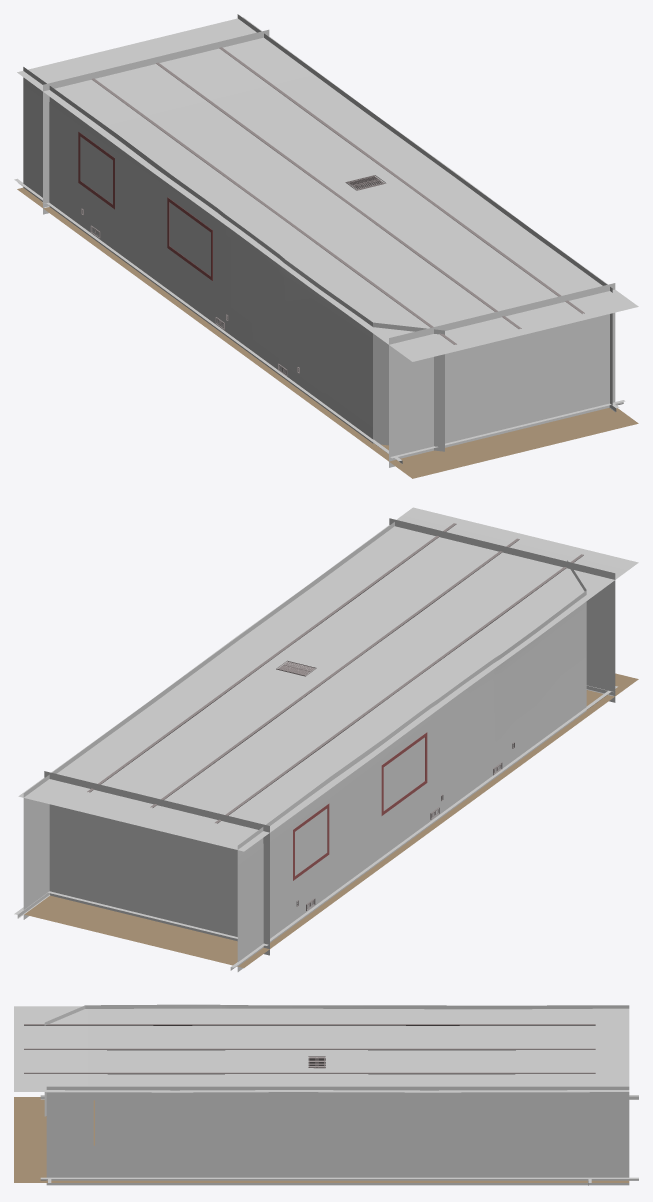
Rendered from galleryModel_toUnity_v001.fbx.
3 views of the same model, one above another, from view 1: azimuth 30°, elevation 25°; view 2: azimuth 150°, elevation 25°; view 3: azimuth 270°, elevation 25° (orthographic). The views are drawn at different scales.
Parts seen in each view (by area): view 1: pPlane1, pPlane3, pPlane7, pPlane6, pPlane4, pPlane2, pCube2, pCube141, pCube130, pCube33, polySurface120; view 2: pPlane1, pPlane3, pPlane4, pPlane6, pPlane2, pPlane7, pCube2, pCube130, pCube141, pCube33, polySurface120; view 3: pPlane2, pPlane1, pPlane6, pPlane3, pPlane5, pCube141, pCube2, pCube34, pCube130.
Part boxes in pixels (<box>): pPlane1: <box>17,17,638,361</box>; pPlane3: <box>23,67,444,451</box>; pPlane7: <box>389,283,615,467</box>; pPlane6: <box>17,187,638,478</box>; pPlane4: <box>43,29,269,214</box>; pPlane2: <box>237,14,612,405</box>; pCube2: <box>219,47,584,313</box>; pCube141: <box>156,62,521,328</box>; pCube130: <box>91,78,456,344</box>; pCube33: <box>14,178,402,464</box>; polySurface120: <box>78,132,212,280</box>; pPlane1: <box>18,507,638,851</box>; pPlane3: <box>237,560,586,971</box>; pPlane4: <box>44,771,269,955</box>; pPlane6: <box>24,673,638,967</box>; pPlane2: <box>23,522,394,919</box>; pPlane7: <box>389,518,615,702</box>; pCube2: <box>87,523,456,792</box>; pCube130: <box>215,554,583,823</box>; pCube141: <box>150,538,519,807</box>; pCube33: <box>230,686,617,970</box>; polySurface120: <box>293,732,427,880</box>; pPlane2: <box>46,1086,629,1185</box>; pPlane1: <box>14,1006,629,1092</box>; pPlane6: <box>14,1097,629,1182</box>; pPlane3: <box>44,1004,629,1116</box>; pPlane5: <box>95,1100,128,1145</box>; pCube141: <box>24,1048,595,1050</box>; pCube2: <box>24,1072,595,1074</box>; pCube34: <box>40,1177,638,1180</box>; pCube130: <box>24,1024,595,1025</box>.
Size of the model in its own units: 687 by 363 by 2036.
